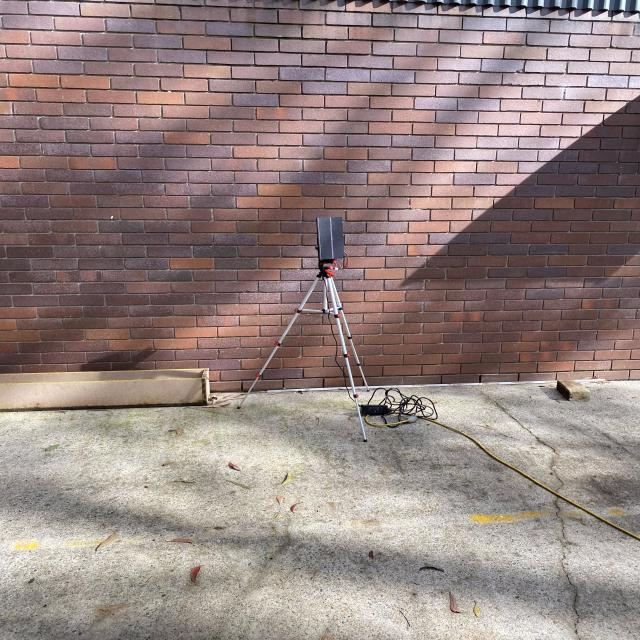matrix: (315, 216, 346, 260)
